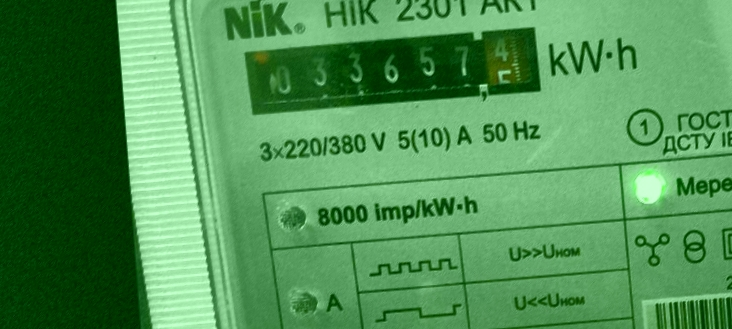0: (271, 59, 295, 98)
3: (309, 53, 331, 89), (345, 49, 365, 85)
4: (491, 33, 512, 64)
5: (414, 41, 439, 79)
6: (379, 49, 402, 86)
7: (452, 41, 472, 78)
screen: (232, 18, 550, 124)
